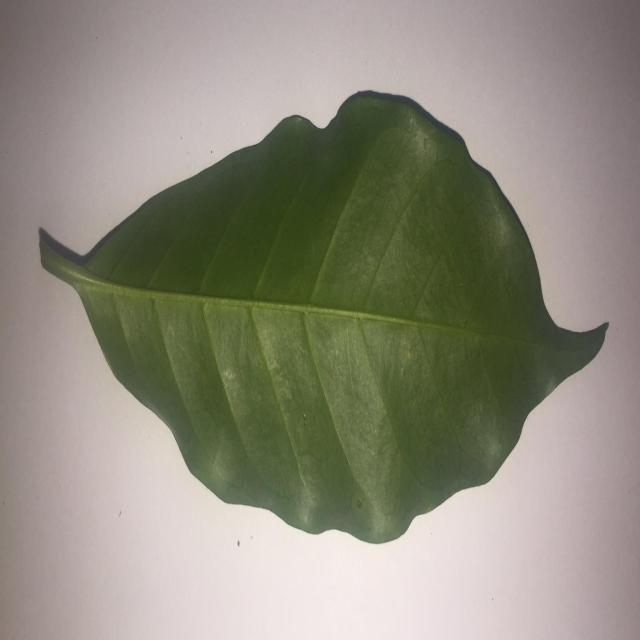Sanas: (38, 92, 609, 548)
